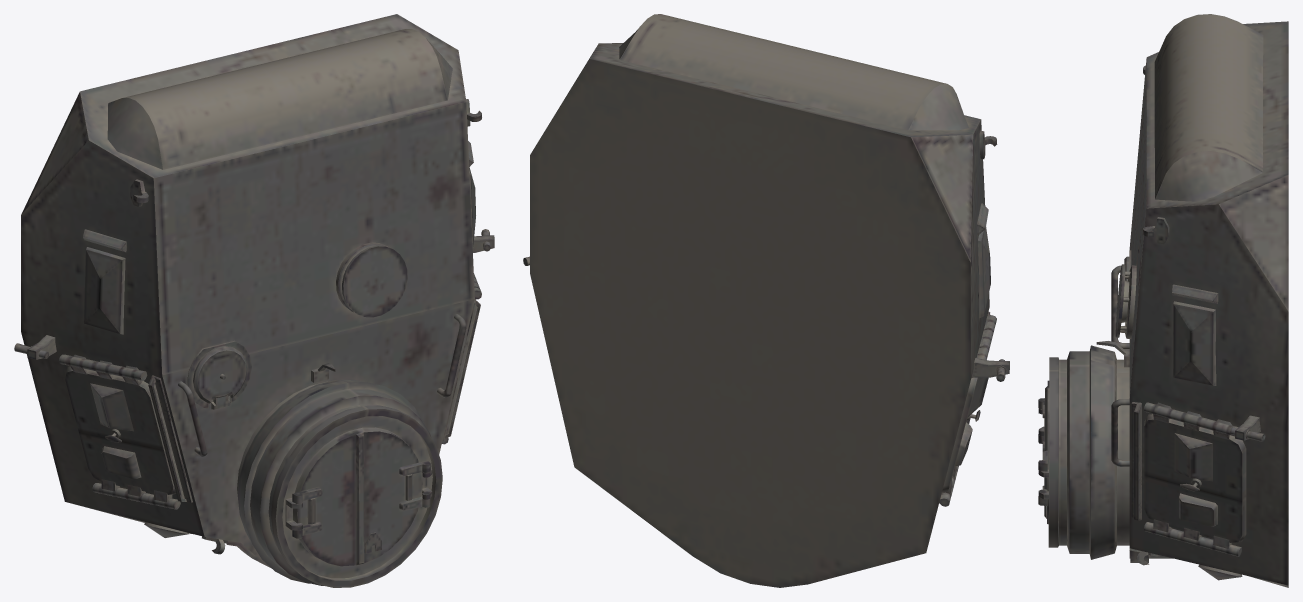
Rendered from Turret_01.glb.
The picture shows the model from 3 angles, left to right: view 1: azimuth 30°, elevation 25°; view 2: azimuth 150°, elevation 25°; view 3: azimuth 270°, elevation 25°; orthographic projection. The views are drawn at different scales.
Parts seen in each view (by area): view 1: set_0_group_0; view 2: set_0_group_0; view 3: set_0_group_0.
Boxes of the visible parts, x1=… form: set_0_group_0: x1=14, y1=14, x2=494, y2=587; set_0_group_0: x1=523, y1=14, x2=1009, y2=587; set_0_group_0: x1=1038, y1=14, x2=1288, y2=587.
Size of the model in its own units: 2.03 by 2.01 by 0.9306.
1 material, 1 textured.
